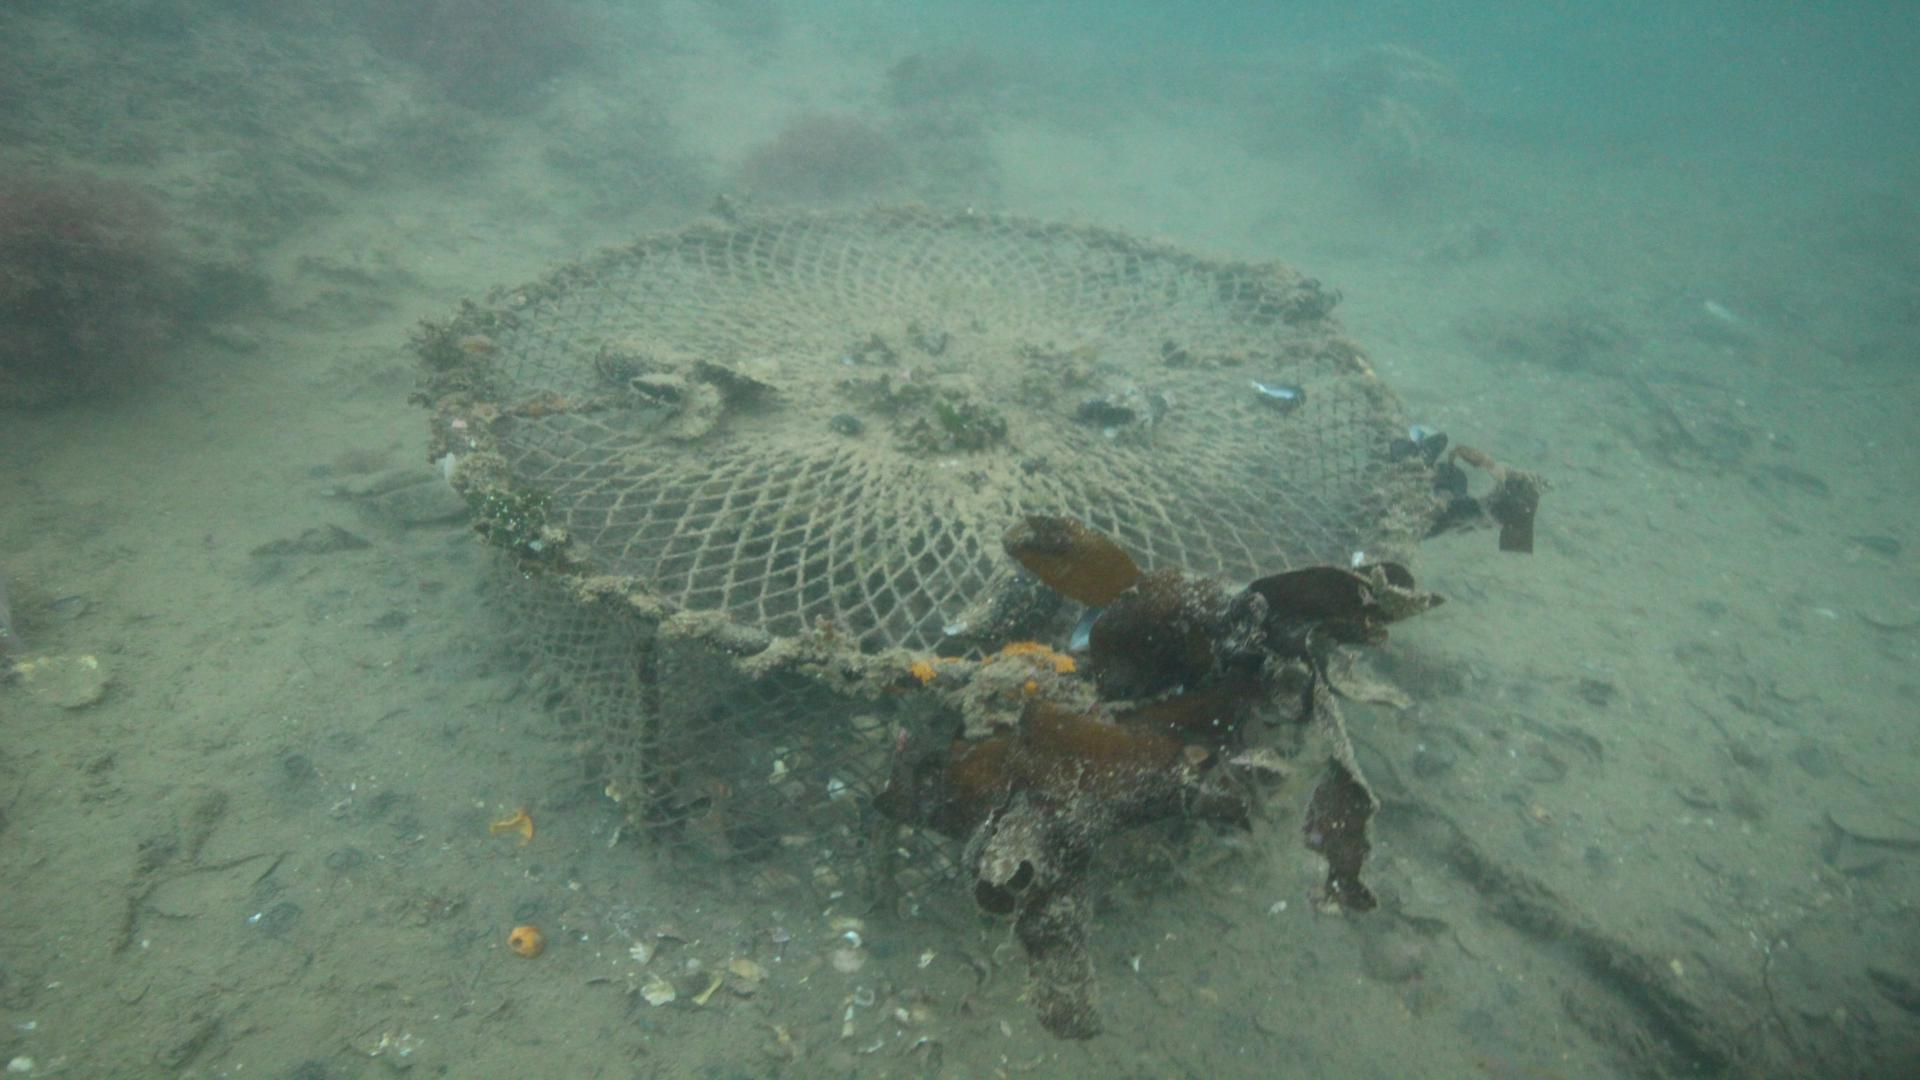circular fish trap: (422, 199, 1435, 930)
